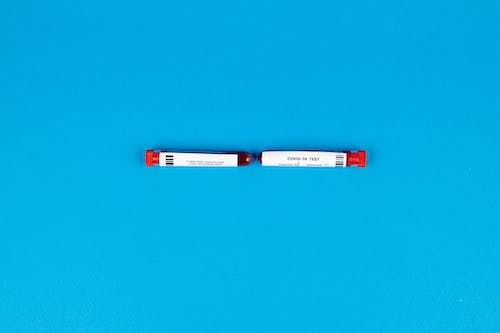blood: (239, 148, 254, 169), (257, 148, 262, 167)
